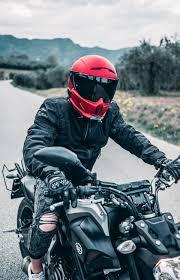Helmet: (69, 55, 116, 120)
